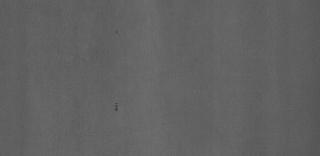oil spot: (114, 98, 118, 114)
